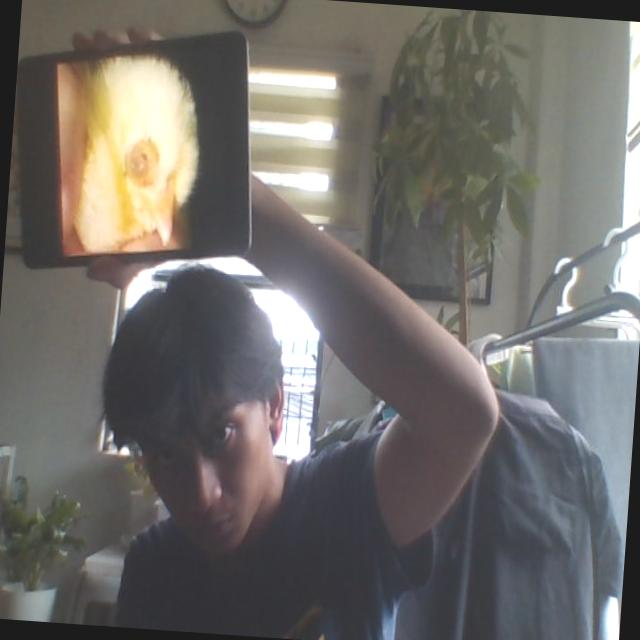Sick: (62, 54, 206, 255)
